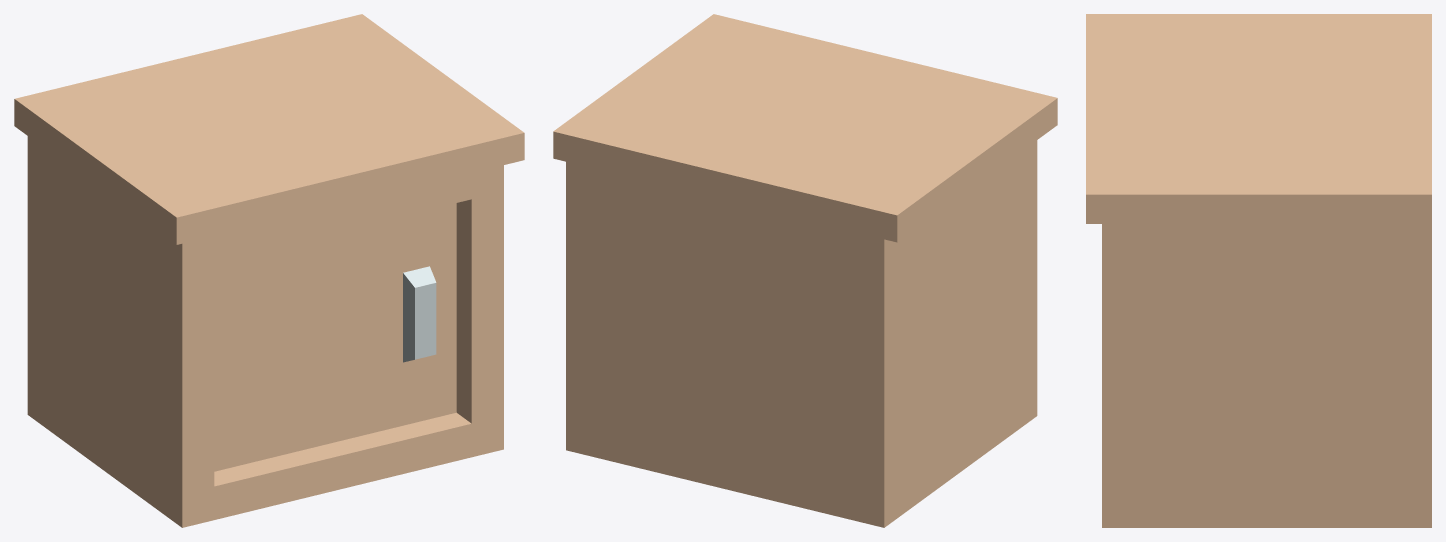
Rendered from cabinetBed.glb.
The picture shows the model from 3 angles, left to right: view 1: azimuth 30°, elevation 25°; view 2: azimuth 150°, elevation 25°; view 3: azimuth 270°, elevation 25°; orthographic projection. The views are drawn at different scales.
Visible parts, largest first — view 1: cabinetBed(Clone), door; view 2: cabinetBed(Clone); view 3: cabinetBed(Clone).
Part boxes in pixels (box(x1,y1,x2,y2)): cabinetBed(Clone): box(14, 14, 524, 527); door: box(214, 203, 456, 471); cabinetBed(Clone): box(553, 14, 1057, 527); cabinetBed(Clone): box(1086, 14, 1431, 527).
Size of the model in its own units: 0.54 by 0.4734 by 0.4365.
Materials: 2 (2 with a texture image).
